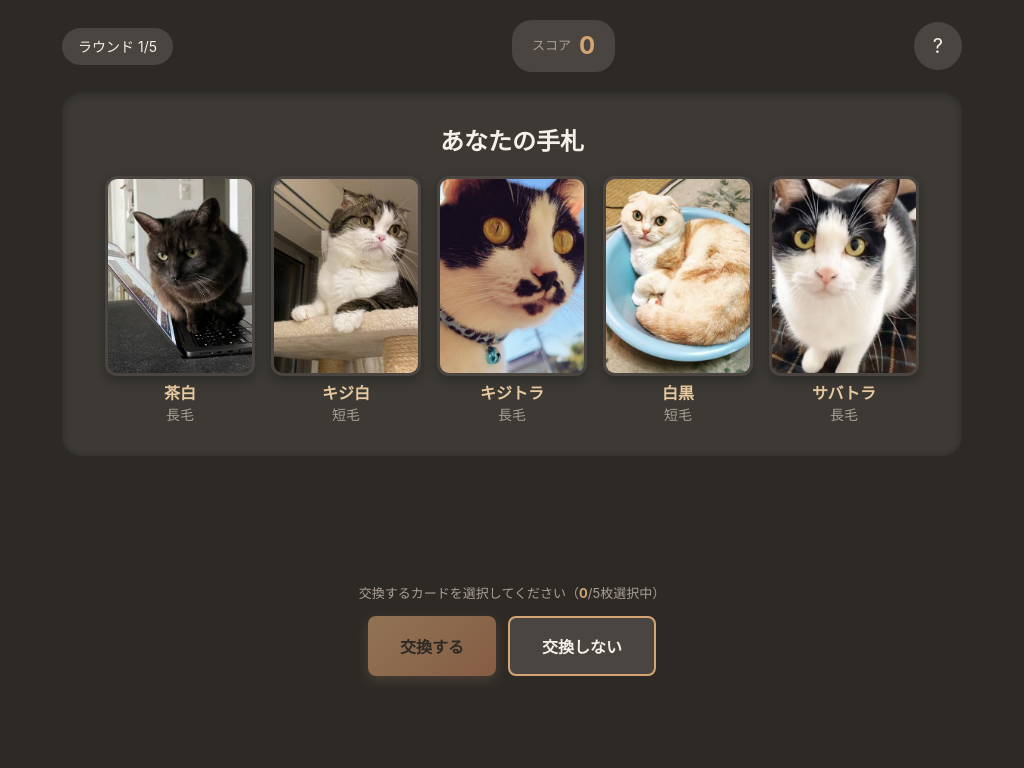
Scenario: GameScreen › Card click and exchange flow › handles card selection and exchange
The width and height of the screenshot is (1024, 768).
Step 1. Click the 2nd button → (180, 276), box [105,176,255,376]
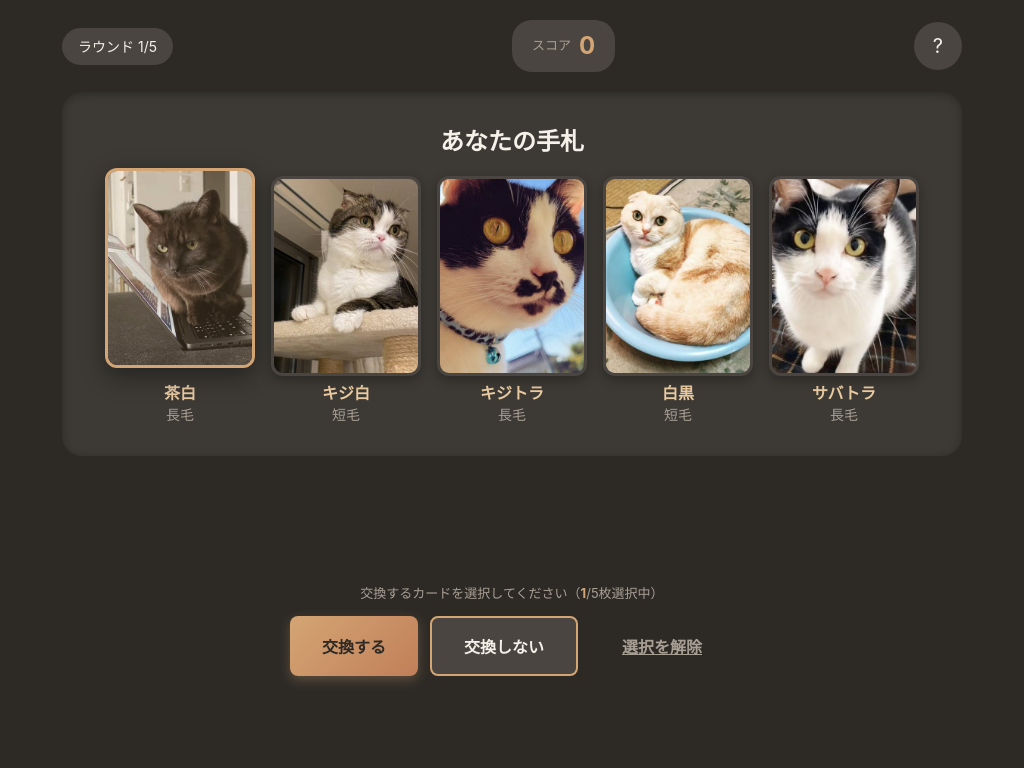
Check: the button "交換する" is enabled
Step 2. Click the button "交換する" → (354, 646), box [290,616,418,676]
Wait 1500 ms
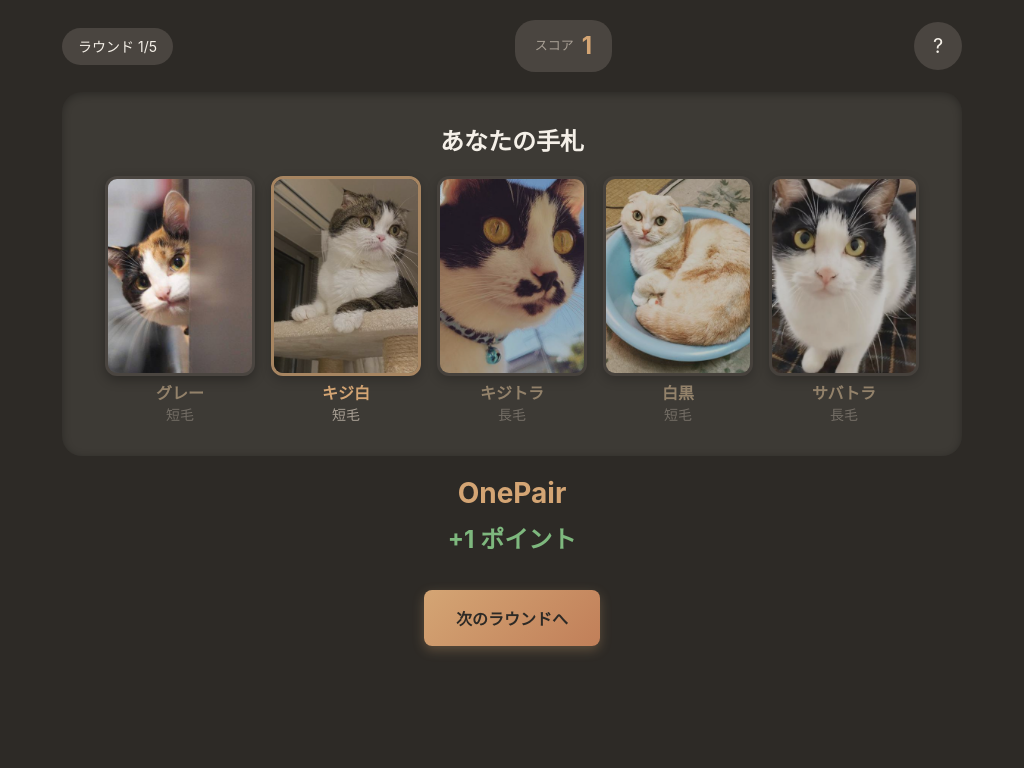
Check: the heading "OnePair" is shown, box [458,472,566,514]
